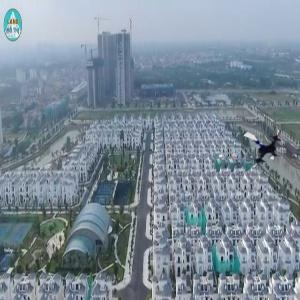drone: (236, 122, 287, 173)
